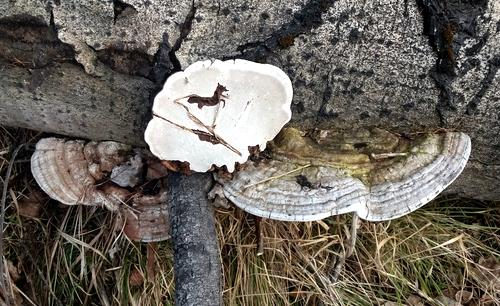Ganoderma - Fruit Body: (208, 113, 478, 223), (24, 132, 175, 250)
